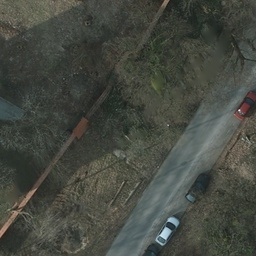car: (184, 172, 210, 203), (156, 216, 181, 245), (236, 89, 255, 120)
